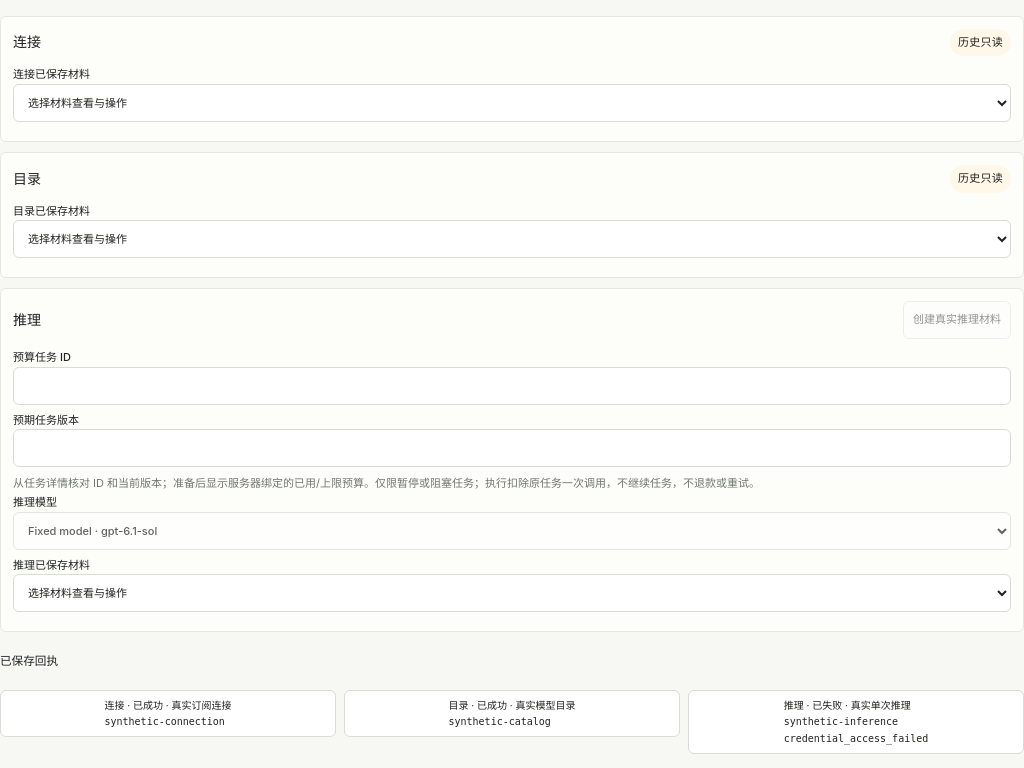
shows credential_access_failed as a local unsent failure without login or replay
(page scrolled)
Select "synthetic-inference · 已失败" in the dropdown labelled "推理已保存材料". click: (512, 593)
box: top-left (13, 574), bottom-right (1011, 612)
(page scrolled)
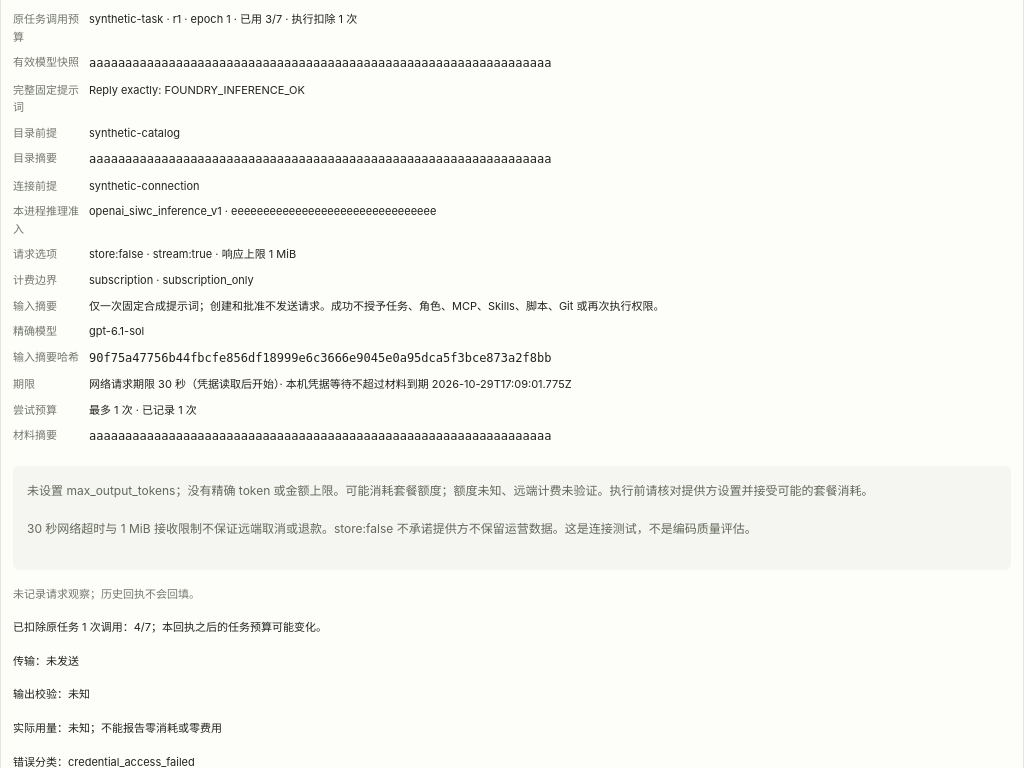
Now the text "传输：未发送" is shown, box top-left (13, 654), bottom-right (79, 668)
Now the text "网络请求期限 30 秒（凭据读取后开始）· 本机凭据等待不超过材料到期 2026-10-29T17:09:01.775Z" is shown, box top-left (89, 377), bottom-right (572, 391)
